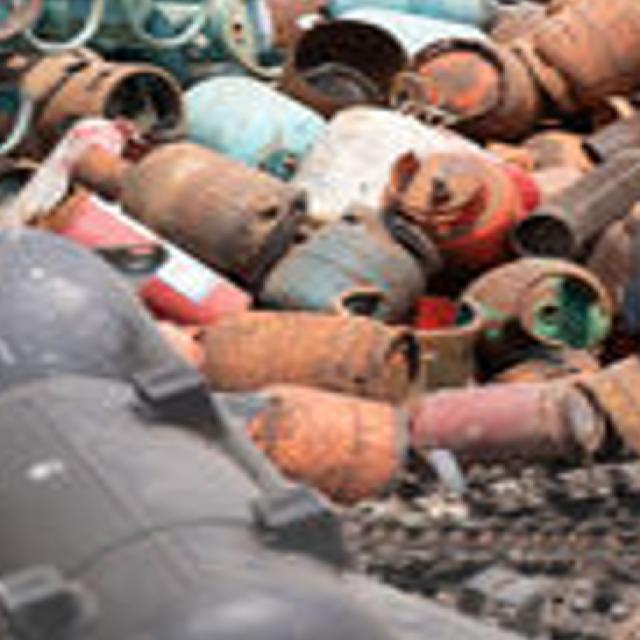cylinder: (74, 137, 308, 277), (379, 148, 541, 264)
